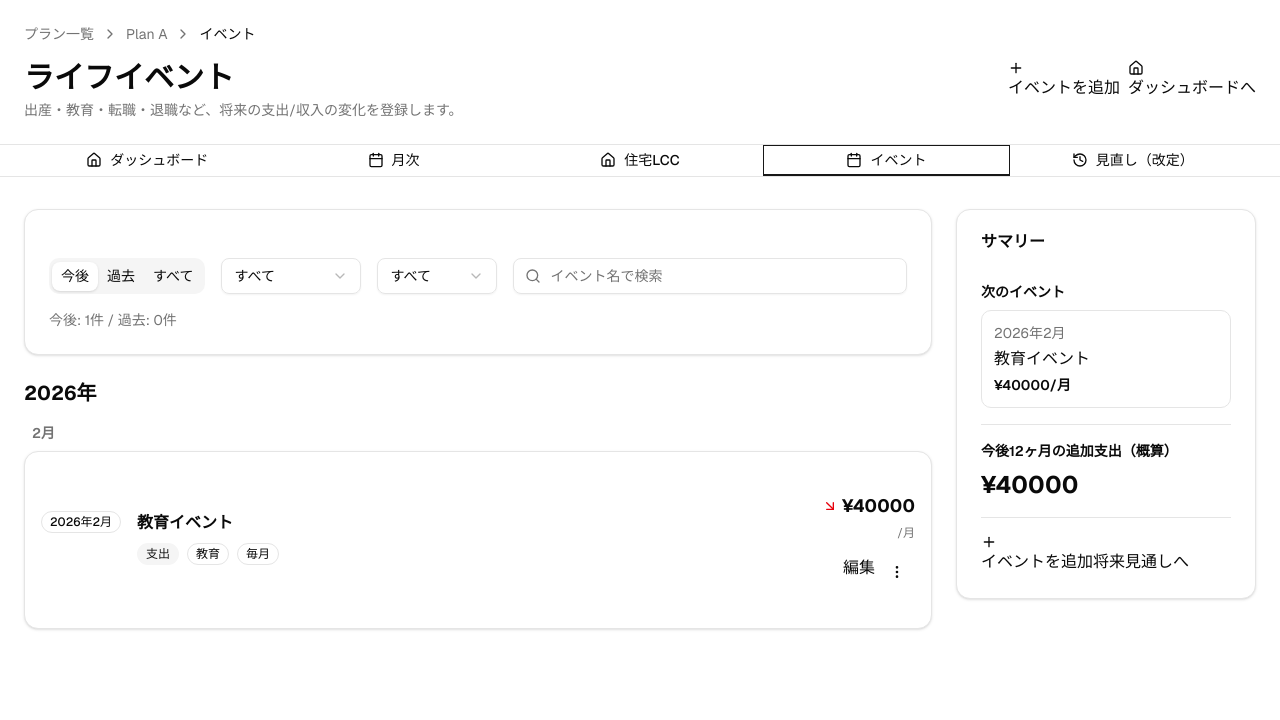
EventsPage › shows empty state when filters exclude all events
Expected: the heading "教育イベント" is shown, [137,511,233,535]
Type "存在しない" into the field with placeholder "イベント名で検索" at (710, 276), box [514,258,907,294]
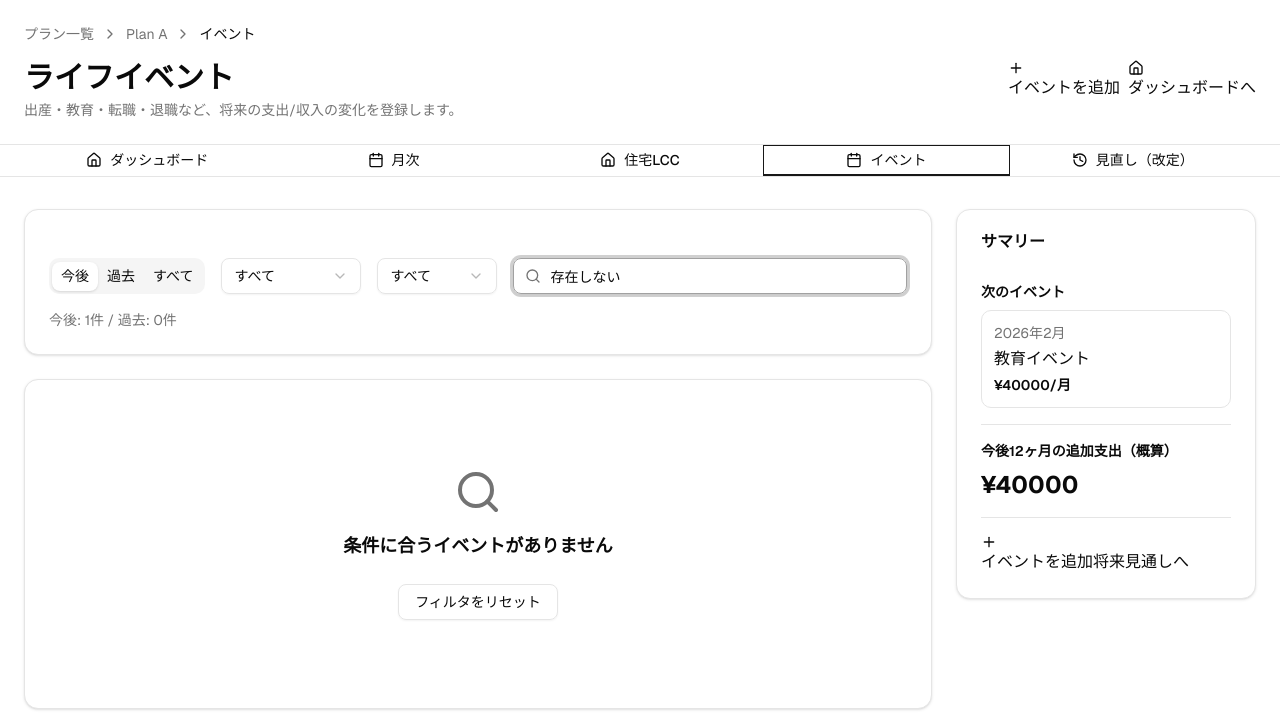
Now the heading "条件に合うイベントがありません" is shown, box [343,532,613,560]
Now the button "フィルタをリセット" is shown, box [398,584,558,620]
